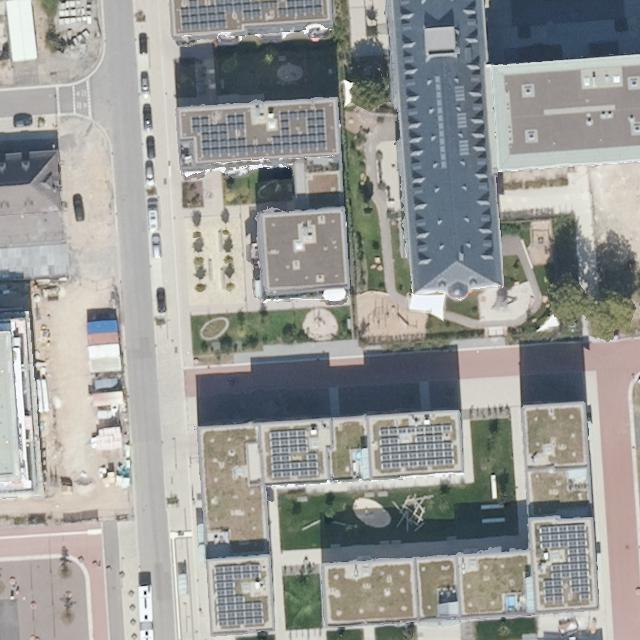PV: (187, 106, 329, 160), (533, 519, 595, 610), (177, 1, 325, 33), (375, 419, 459, 475), (213, 560, 267, 631), (266, 425, 322, 483)
